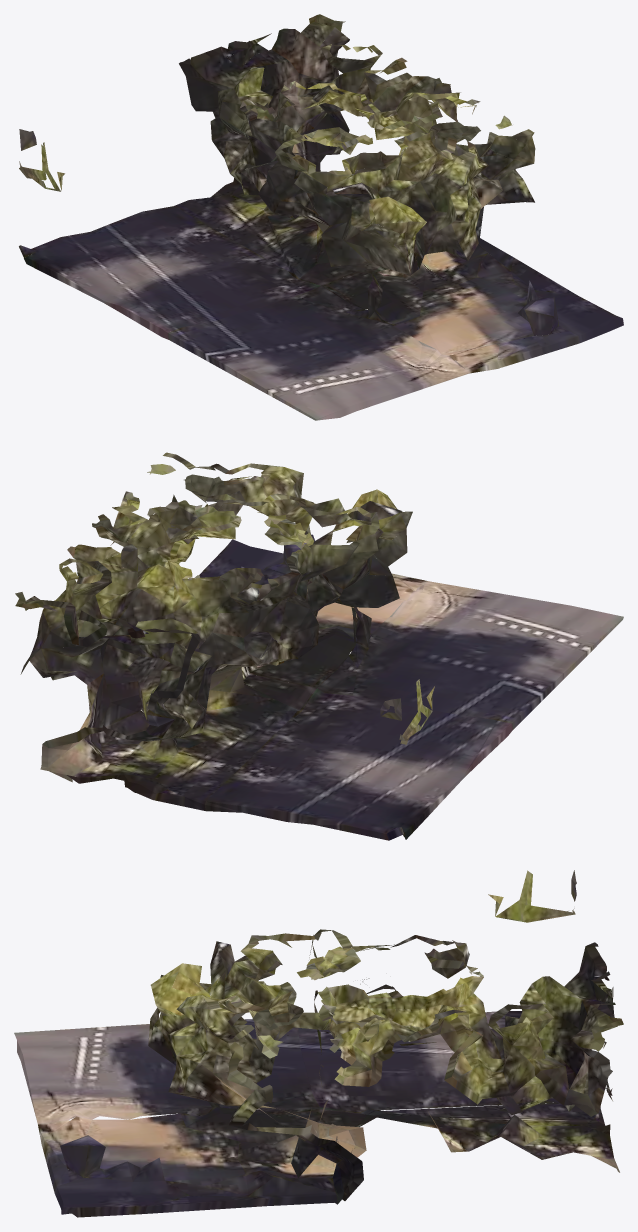
3 renders of one model, top to bottom at view 1: azimuth 30°, elevation 25°; view 2: azimuth 150°, elevation 25°; view 3: azimuth 270°, elevation 25°, orthographic. The views are drawn at different scales.
Visible parts, largest first — view 1: Mesh_0; view 2: Mesh_0; view 3: Mesh_0.
Boxes of the visible parts, x1,y1,x2,y2 form: Mesh_0: (19,14,623,420); Mesh_0: (15,452,623,840); Mesh_0: (14,870,623,1217).
Size of the model in its own units: 33.77 by 13.38 by 41.34.
Materials: 2 (2 with a texture image).
